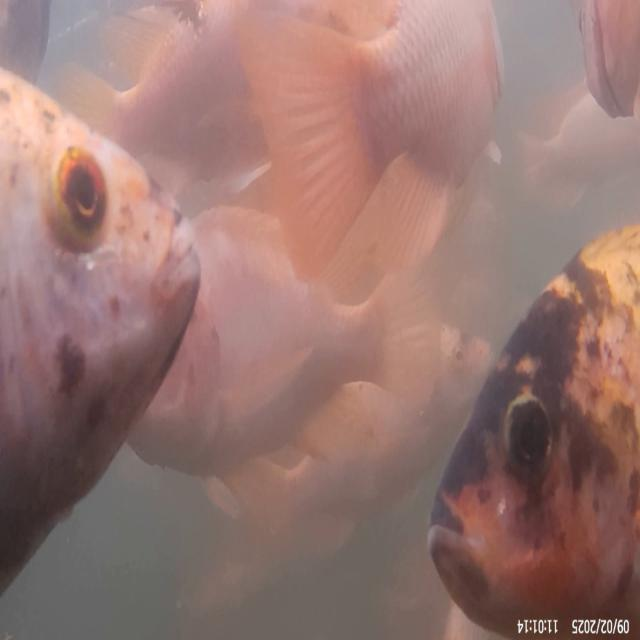ikan: (0, 65, 202, 593), (426, 220, 638, 637), (232, 0, 504, 295)
